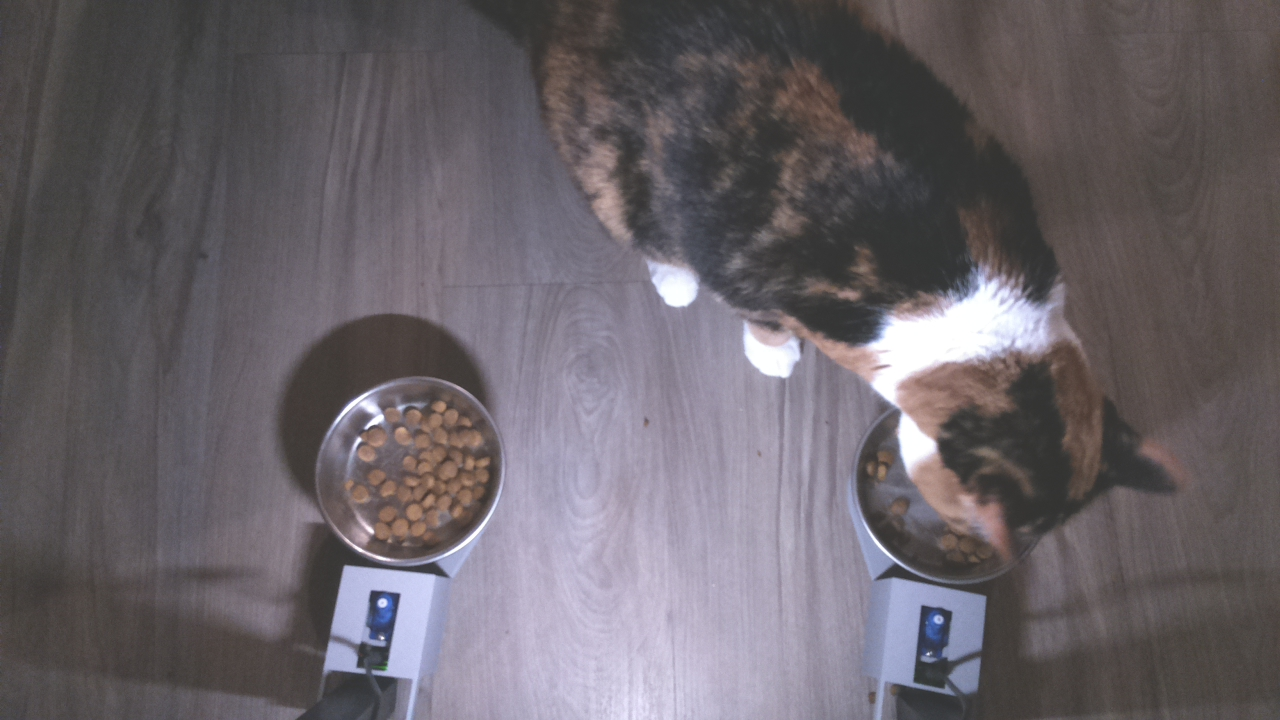bella_eating: (834, 315, 1205, 589)
open_bowl: (311, 372, 509, 573)
